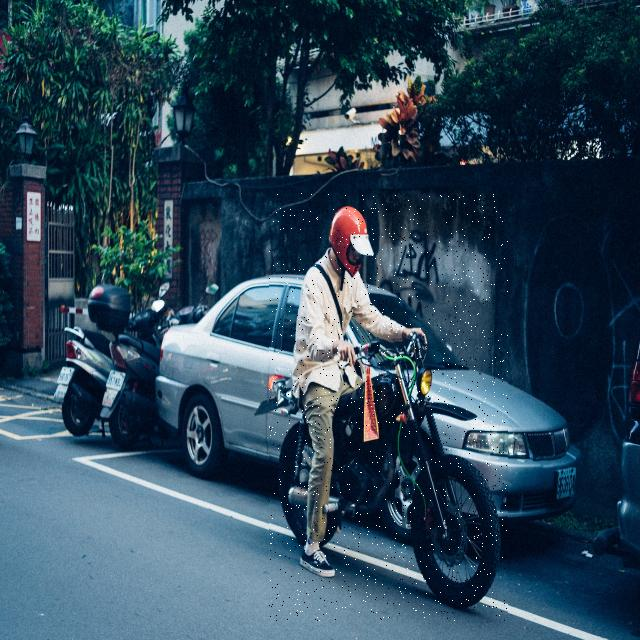With Helmet: (269, 194, 508, 622)
